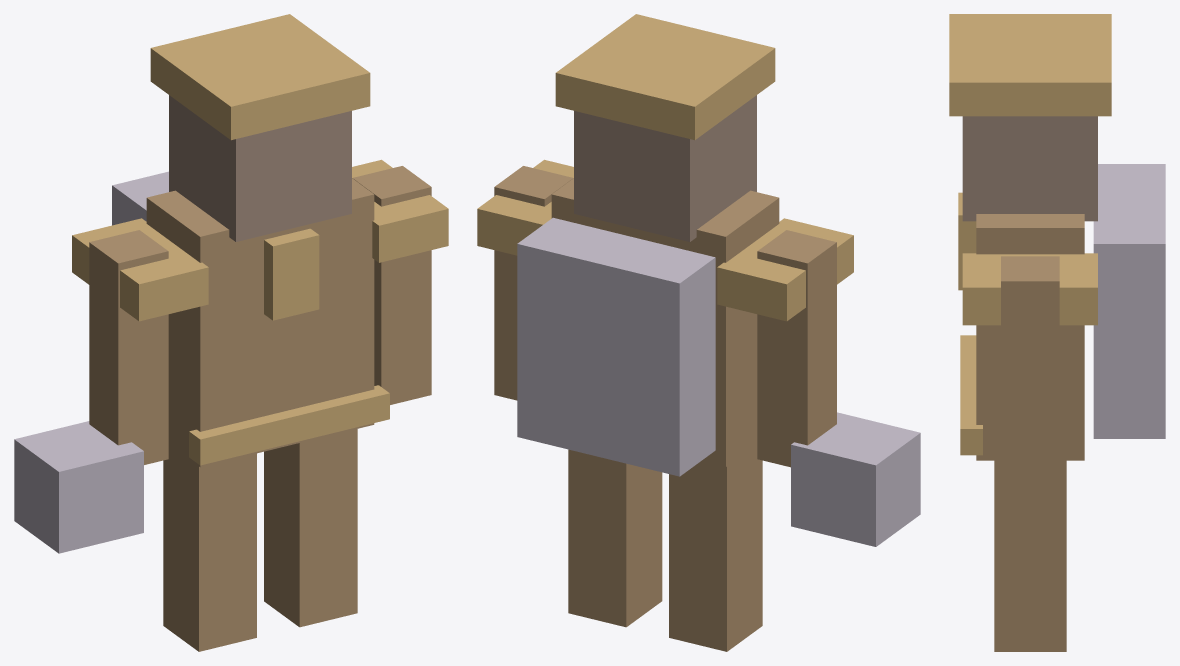
Rendered from 13_thorne_gearmantle_broker_near_resonance.glb.
3 views of the same model, side by side, from view 1: azimuth 30°, elevation 25°; view 2: azimuth 150°, elevation 25°; view 3: azimuth 270°, elevation 25° (orthographic).
Visible parts, largest first — view 1: Thorne Gearmantle, Broker near Resonance; view 2: Thorne Gearmantle, Broker near Resonance; view 3: Thorne Gearmantle, Broker near Resonance.
Part boxes in pixels (x1=…): Thorne Gearmantle, Broker near Resonance: x1=14, y1=14, x2=448, y2=651; Thorne Gearmantle, Broker near Resonance: x1=477, y1=14, x2=920, y2=651; Thorne Gearmantle, Broker near Resonance: x1=949, y1=14, x2=1165, y2=651.
Bounding box in the file's own units: 1.09 × 1.52 × 0.5269.
